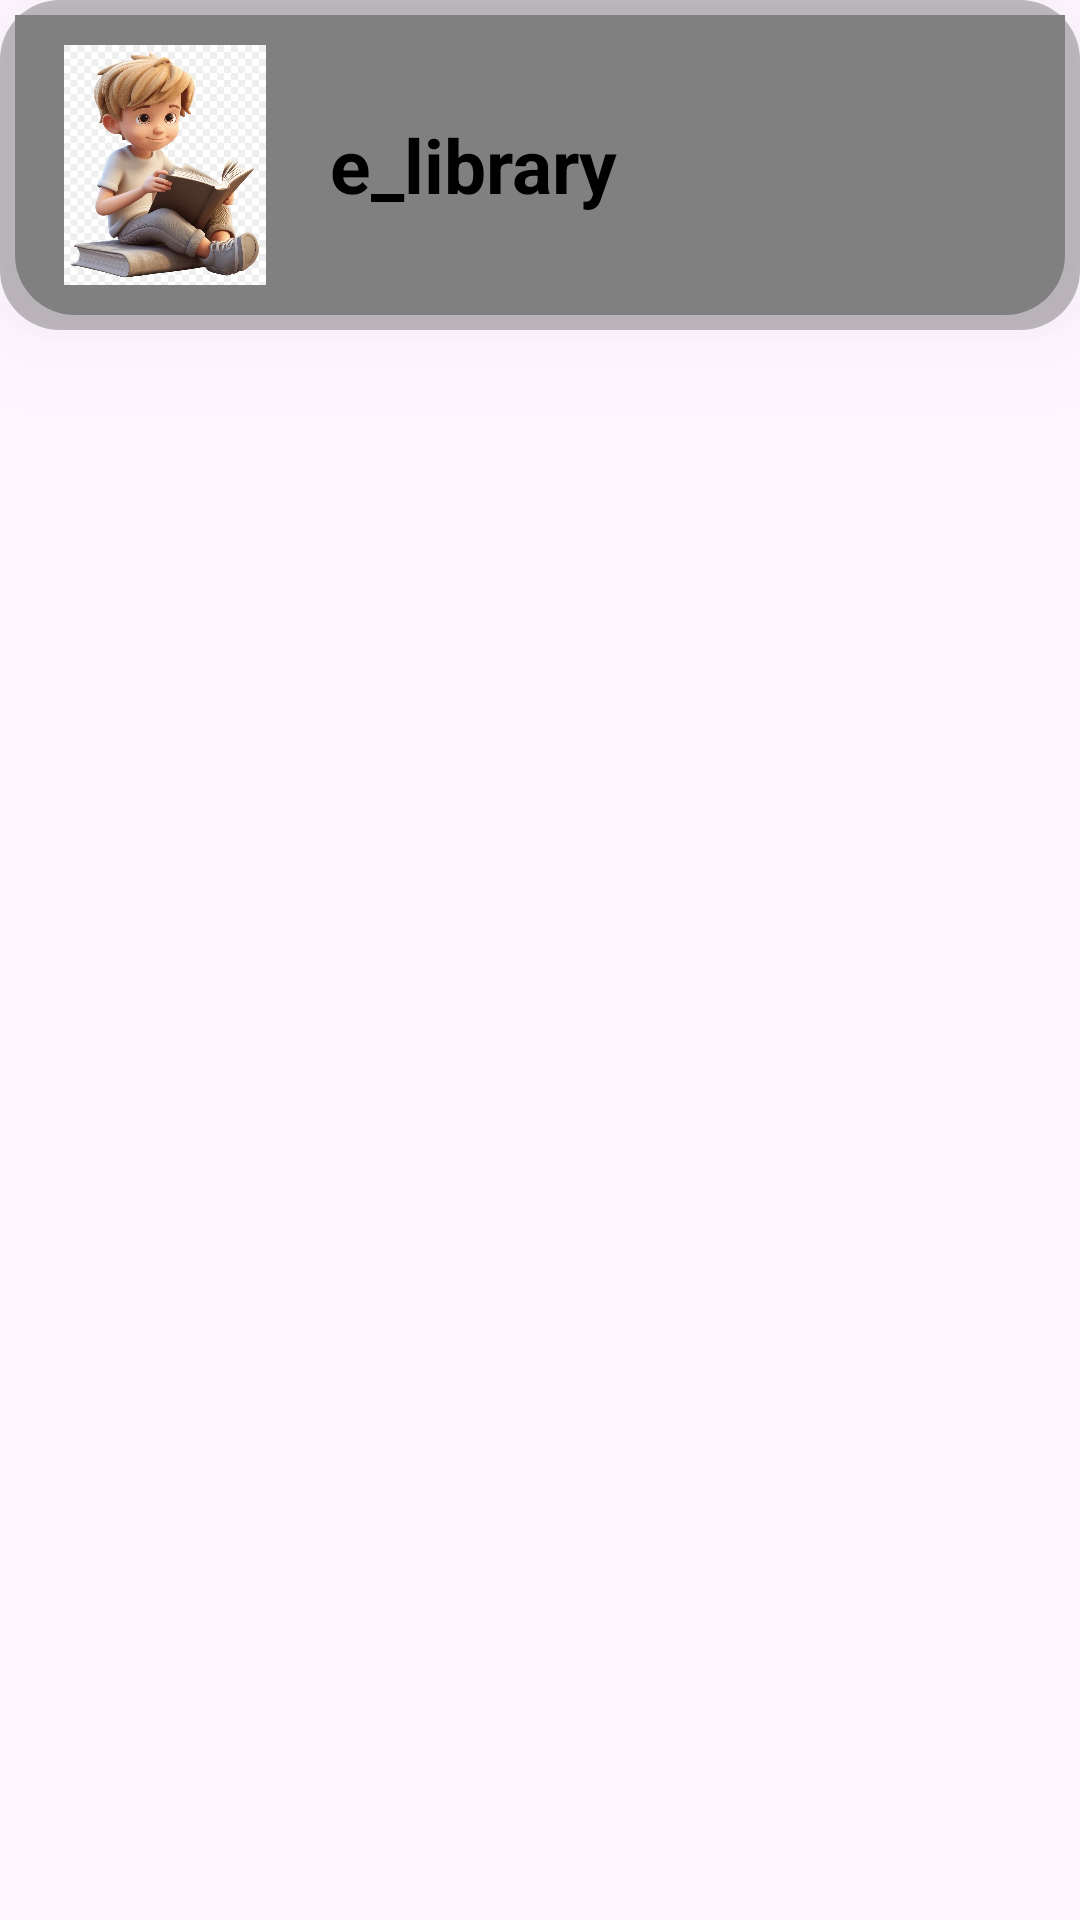

Icon bounding boxes for this 1080w x 1920h phone screenshot, format (x1, y1, x2, y2):
boy: (64, 45, 266, 285)
